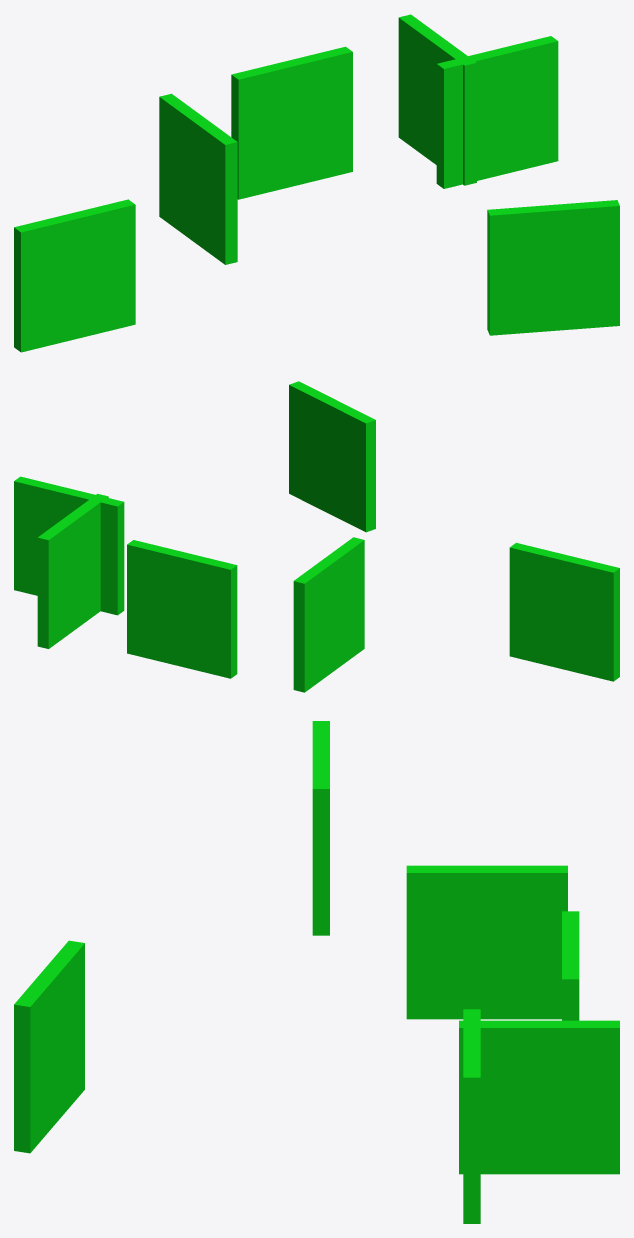
The model's file is VS_GREEN_DOORS.glb.
3 renders of one model, top to bottom at view 1: azimuth 30°, elevation 25°; view 2: azimuth 150°, elevation 25°; view 3: azimuth 270°, elevation 25°, orthographic. The views are drawn at different scales.
Parts seen in each view (by area): view 1: VSWALLSGREEN; view 2: VSWALLSGREEN; view 3: VSWALLSGREEN.
Part boxes in pixels (<box>): VSWALLSGREEN: <box>14,14,619,352</box>; VSWALLSGREEN: <box>14,381,619,692</box>; VSWALLSGREEN: <box>14,721,619,1223</box>.
Size of the model in its own units: 36.38 by 6.97 by 26.14.
